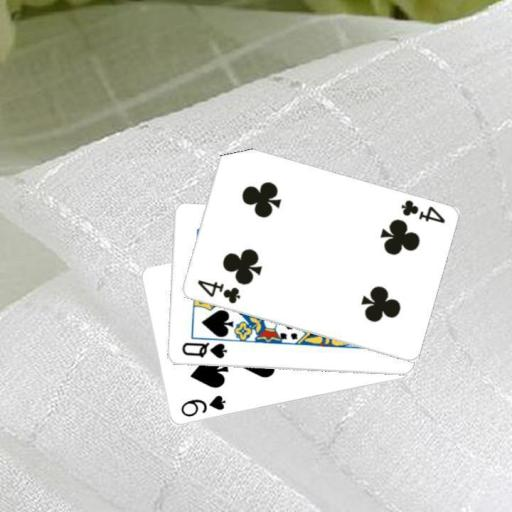card-corner: (177, 392, 228, 419), (397, 197, 446, 225), (193, 277, 241, 305), (178, 339, 228, 361)
